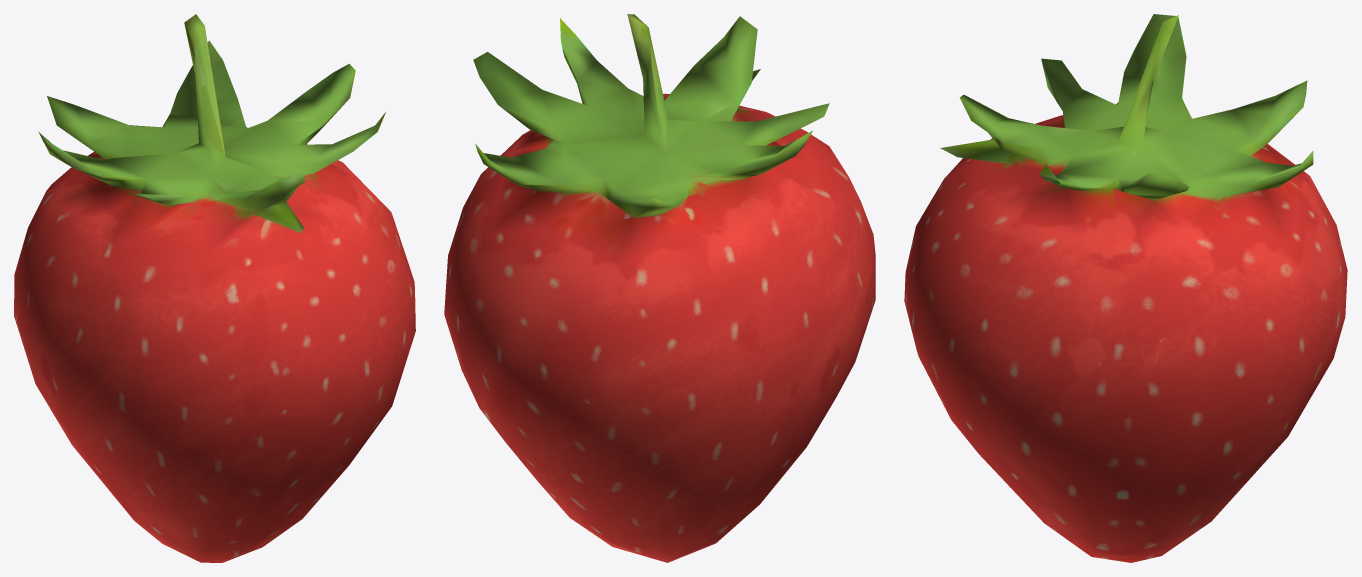
The model's file is strawberry.fbx.
3 renders of one model, left to right at view 1: azimuth 30°, elevation 25°; view 2: azimuth 150°, elevation 25°; view 3: azimuth 270°, elevation 25°, orthographic. The views are drawn at different scales.
Parts seen in each view (by area): view 1: strawberry; view 2: strawberry; view 3: strawberry.
Part boxes in pixels (x1,y1,x2,y2): strawberry: (14,14,415,562); strawberry: (444,14,875,562); strawberry: (904,14,1347,562).
Size of the model in its own units: 2.76 by 4.08 by 3.02.
